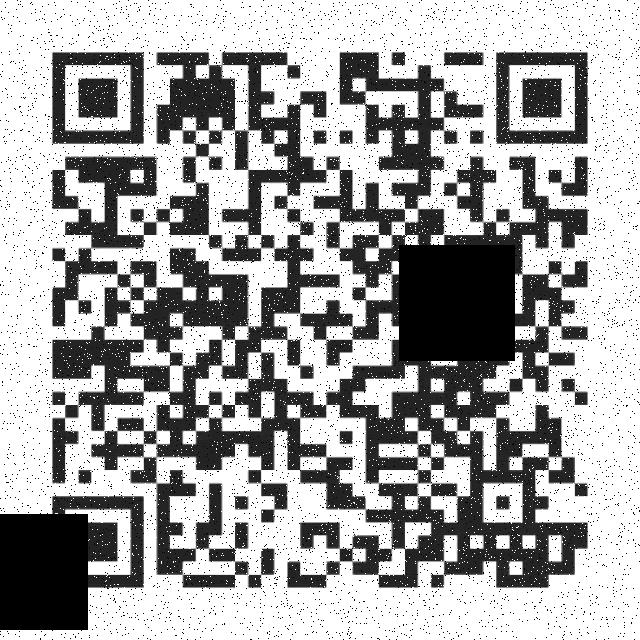QR_CODE: (39, 35, 602, 599)
